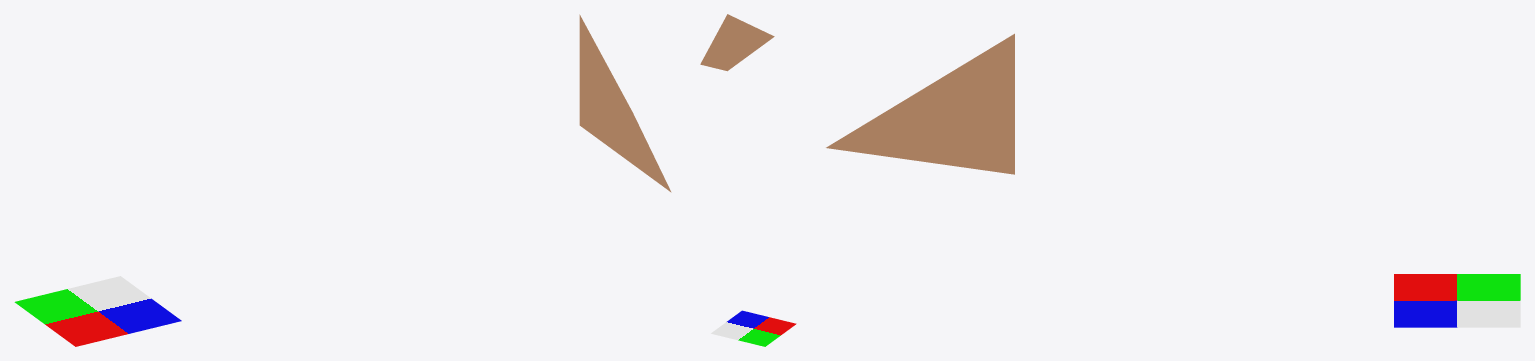
Rendered from chair.glb.
3 views of the same model, side by side, from view 1: azimuth 30°, elevation 25°; view 2: azimuth 150°, elevation 25°; view 3: azimuth 270°, elevation 25° (orthographic). The views are drawn at different scales.
Visible parts, largest first — view 1: Seat, Frame; view 2: Frame, Seat; view 3: Frame, Seat.
Boxes of the visible parts, box(x1,y1,x2,y2) form: Seat: box(14, 276, 181, 346); Frame: box(579, 14, 671, 192); Frame: box(700, 14, 774, 71); Seat: box(711, 310, 796, 346); Frame: box(826, 33, 1014, 174); Seat: box(1394, 274, 1520, 327).
Size of the model in its own units: 14 by 14 by 22.
Materials: 2 (1 with a texture image).
